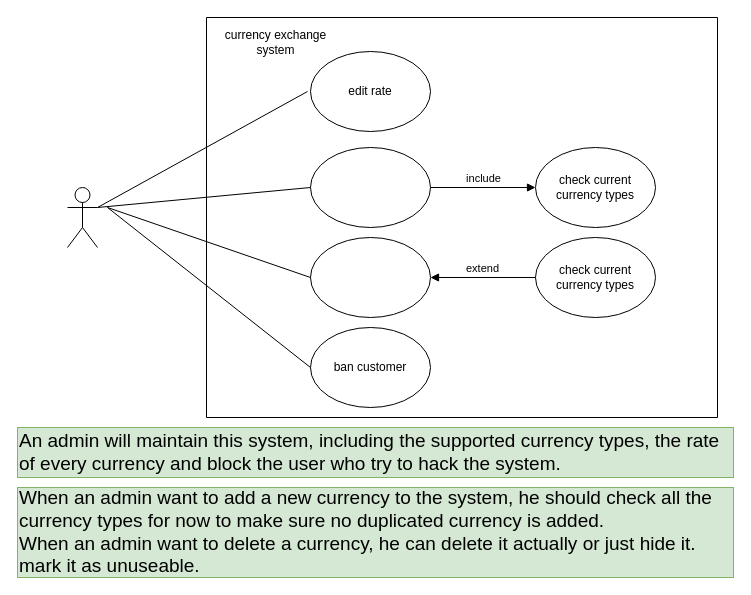
Some shapes in this 751 by 595 pixel diagram are drawn without their labels. The shapes that lost their labels are listed below. From the top down, each one's box as (x1, y1, x2, y2) in pixels, then its label:
(310, 146, 430, 228): add currency
(66, 186, 98, 248): admin
(310, 236, 430, 318): delete currency
